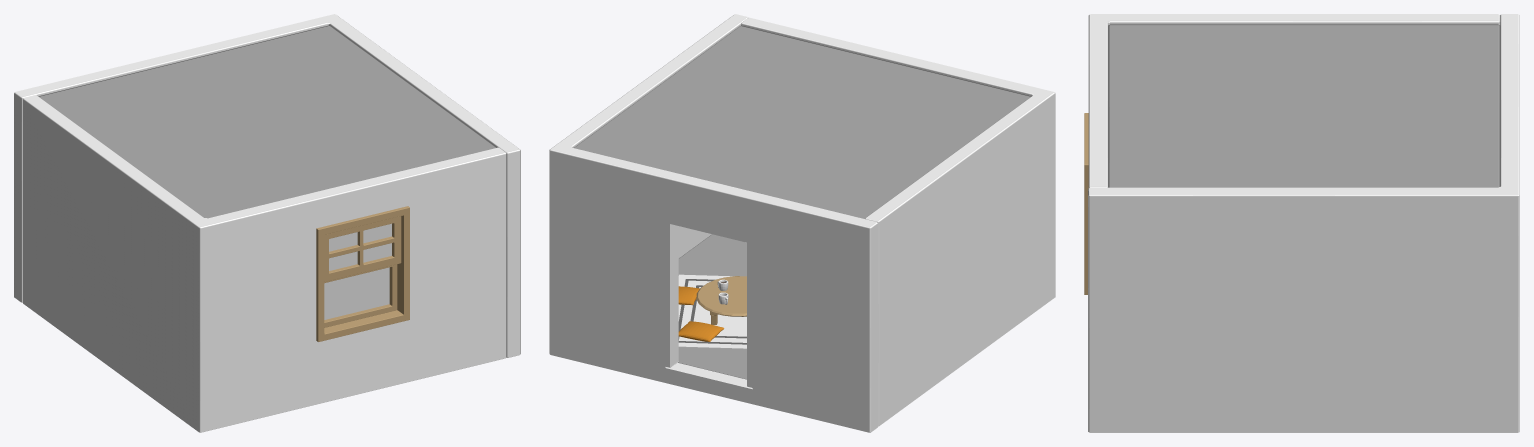
File: Habitacion.fbx
The picture shows the model from 3 angles, left to right: view 1: azimuth 30°, elevation 25°; view 2: azimuth 150°, elevation 25°; view 3: azimuth 270°, elevation 25°; orthographic projection. The views are drawn at different scales.
Parts seen in each view (by area): view 1: Wall, Floor.001, Wall.001, Window; view 2: Wall.001, Floor.001, Wall, Floor, Carpet, Coffe table, Cushion.001; view 3: Wall.001, Floor.001, Wall, Window.
Boxes of the visible parts, x1=… form: Wall: x1=23, y1=95, x2=506, y2=432; Floor.001: x1=38, y1=25, x2=495, y2=218; Wall.001: x1=14, y1=14, x2=520, y2=357; Window: x1=316, y1=206, x2=409, y2=341; Wall.001: x1=549, y1=14, x2=877, y2=432; Floor.001: x1=574, y1=25, x2=1031, y2=218; Wall: x1=741, y1=17, x2=1055, y2=426; Floor: x1=678, y1=234, x2=746, y2=379; Carpet: x1=678, y1=274, x2=746, y2=349; Coffe table: x1=696, y1=276, x2=746, y2=324; Cushion.001: x1=678, y1=321, x2=724, y2=341; Wall.001: x1=1088, y1=14, x2=1519, y2=432; Floor.001: x1=1108, y1=24, x2=1500, y2=187; Wall: x1=1088, y1=14, x2=1500, y2=187; Window: x1=1084, y1=113, x2=1088, y2=294.
Size of the model in its own units: 8.79 by 5.37 by 8.89.
